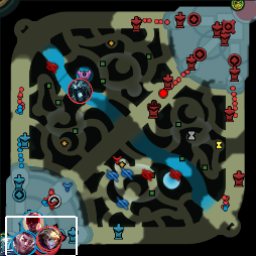ezreal: (38, 226, 59, 248)
fizz: (1, 234, 17, 256)
karthus: (68, 77, 91, 103)
leesin: (21, 210, 45, 234)
rakan: (11, 231, 36, 254)
